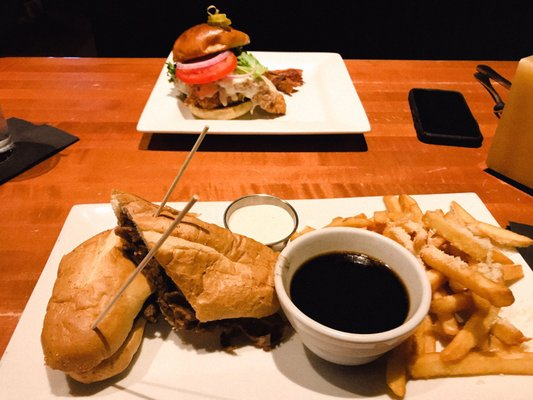soup: (40, 225, 170, 384), (152, 217, 286, 353), (165, 18, 288, 121)
sushi: (275, 226, 432, 367), (223, 194, 299, 252)
